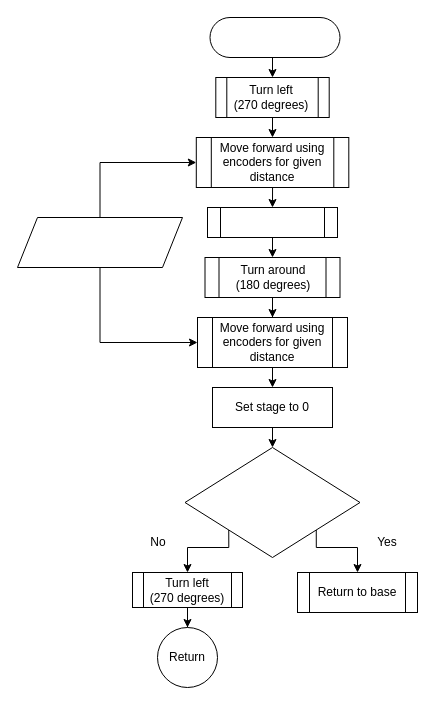
Image size: 435x705. Some labels were removed from this diagram. Here are the shapes that lost their labels. From the top down, the centre of each, then its label:
At pixel 274 37: "Drive and collect".
At pixel 99 242: "Distance between point on x axis and point on coastline".
At pixel 272 222: "Collect sample".
At pixel 272 502: "Has there been taken 2 samples?".
